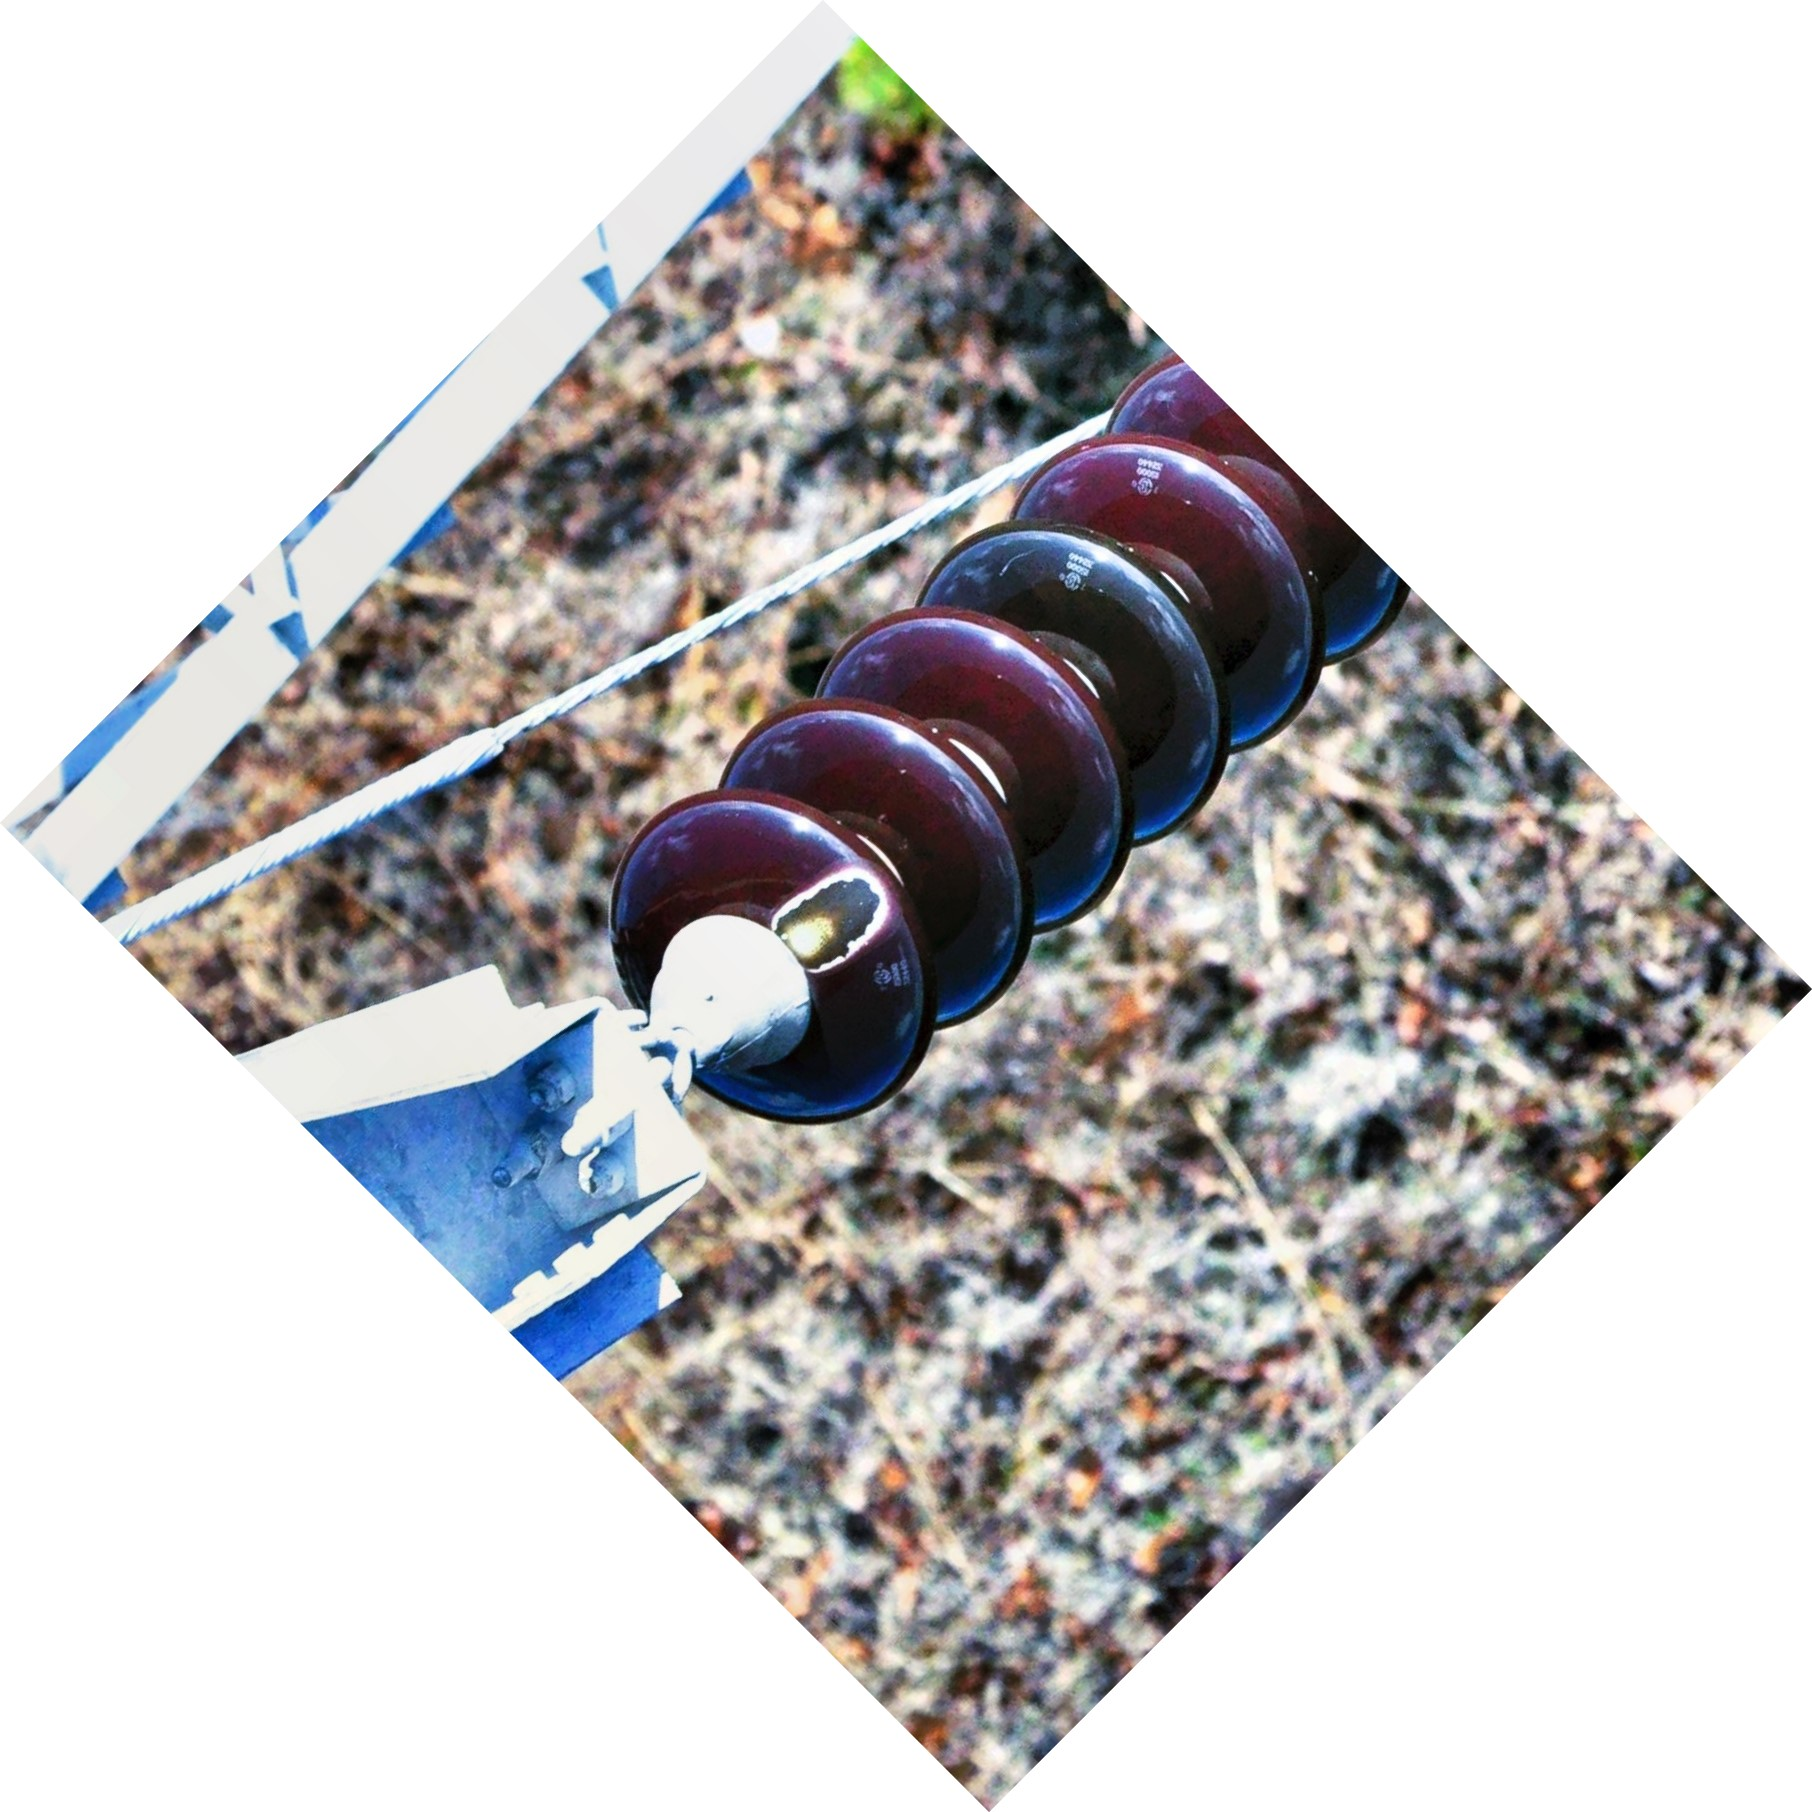Insulator flashover: (599, 777, 943, 1160)
